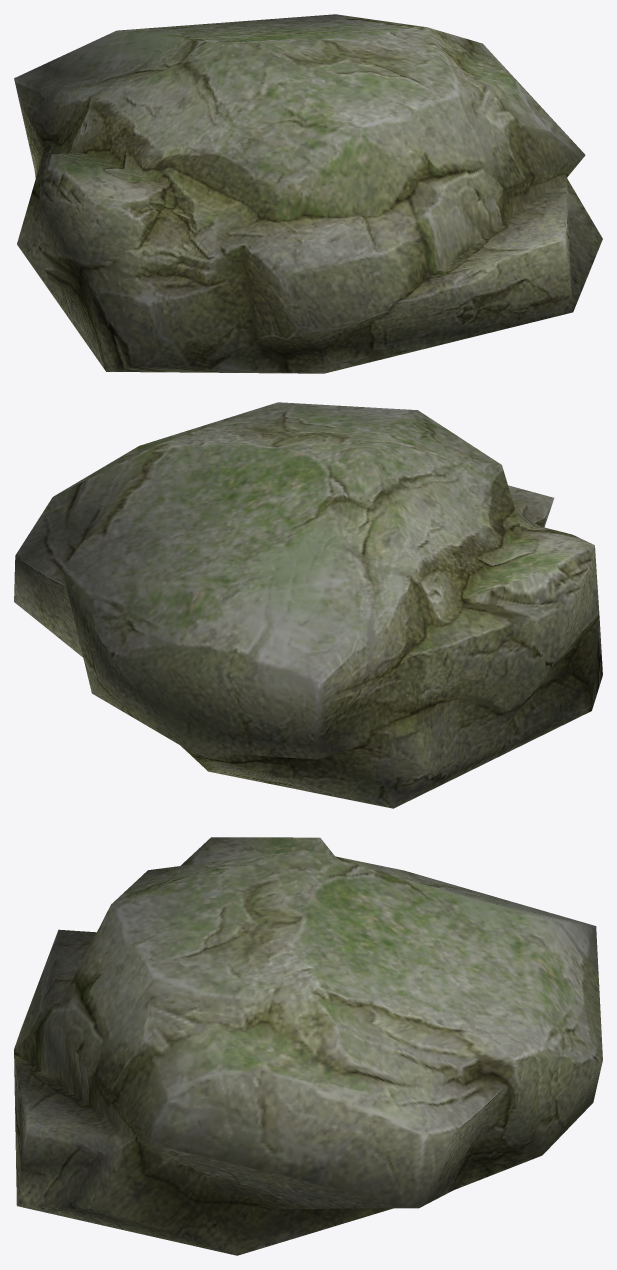
The model's file is GongYong_SuiShi_3.fbx.
3 renders of one model, top to bottom at view 1: azimuth 30°, elevation 25°; view 2: azimuth 150°, elevation 25°; view 3: azimuth 270°, elevation 25°, orthographic. The views are drawn at different scales.
Visible parts, largest first — view 1: GongYong_SuiShi_3; view 2: GongYong_SuiShi_3; view 3: GongYong_SuiShi_3.
Part boxes in pixels (x1,y1,x2,y2): GongYong_SuiShi_3: (14,14,602,373); GongYong_SuiShi_3: (14,402,602,808); GongYong_SuiShi_3: (14,837,602,1255).
Bounding box in the file's own units: 137 × 72.17 × 129.
